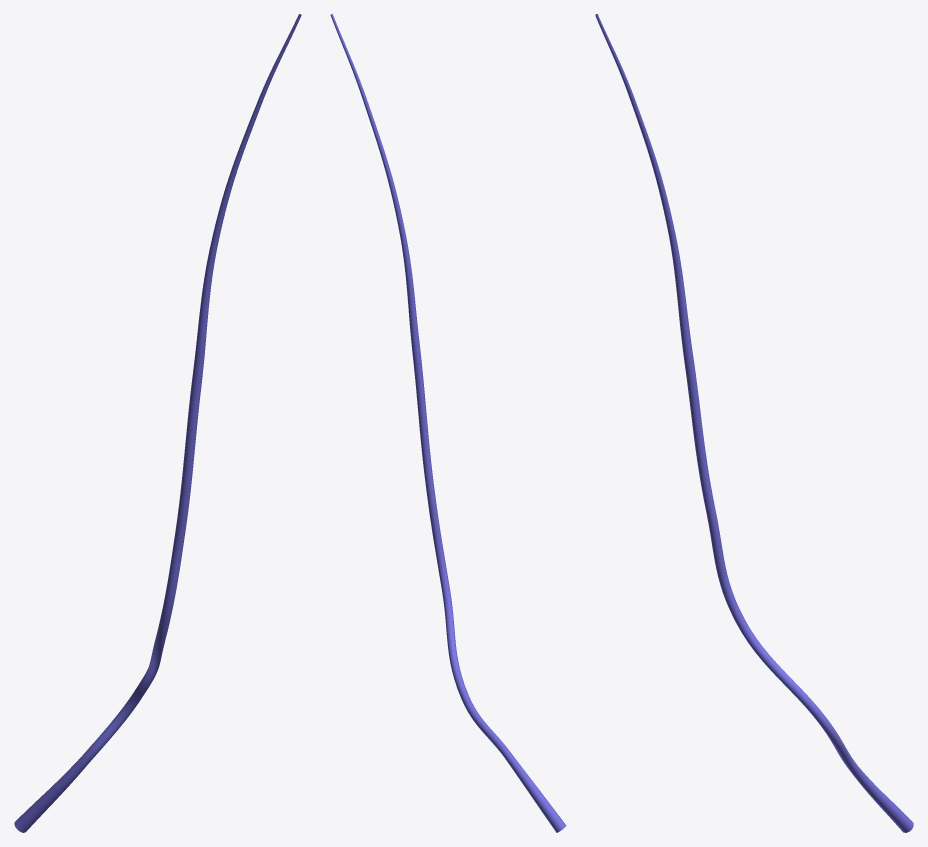
The model's file is Inferior_epigastric_vein.r_BezierCurve.416.glb.
The picture shows the model from 3 angles, left to right: view 1: azimuth 30°, elevation 25°; view 2: azimuth 210°, elevation 25°; view 3: azimuth 270°, elevation 25°; orthographic projection. The views are drawn at different scales.
Visible parts, largest first — view 1: Inferior_epigastric_vein.r_BezierCurve.416; view 2: Inferior_epigastric_vein.r_BezierCurve.416; view 3: Inferior_epigastric_vein.r_BezierCurve.416.
Boxes of the visible parts, x1=… form: Inferior_epigastric_vein.r_BezierCurve.416: x1=14, y1=14, x2=301, y2=832; Inferior_epigastric_vein.r_BezierCurve.416: x1=330, y1=14, x2=566, y2=832; Inferior_epigastric_vein.r_BezierCurve.416: x1=595, y1=14, x2=913, y2=832.
Size of the model in its own units: 0.0289 by 0.1996 by 0.0661.
